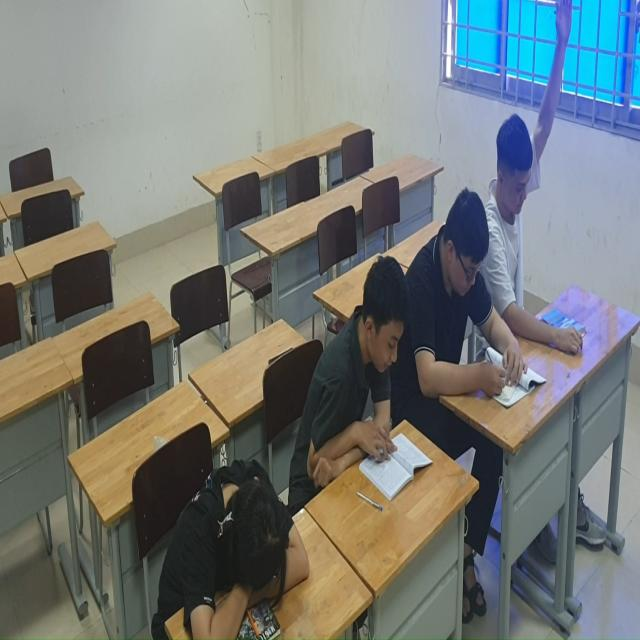raise_hand: (485, 1, 592, 360)
read: (312, 255, 434, 507), (417, 184, 529, 431)
sleep: (153, 451, 313, 640)
